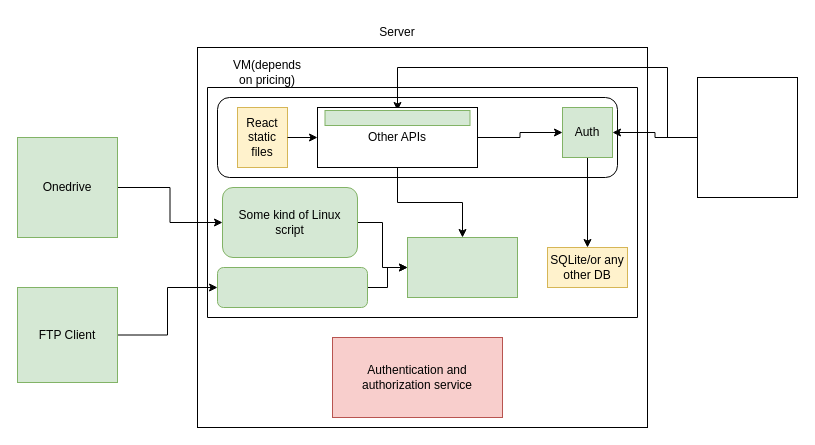
Image size: 815x445. Some labels were removed from this diagram. The centre of each missing label's shape, as x and y in pixels:
"Browser" goes at (x=747, y=137).
"FTP App" goes at (x=292, y=287).
"OpenSlideFunctions" goes at (x=397, y=118).
"Storage" goes at (x=462, y=267).
